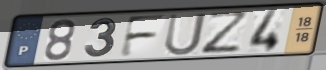3: (82, 16, 119, 60)
4: (247, 7, 282, 54)
8: (43, 18, 77, 62)
F: (117, 13, 169, 59)
U: (163, 11, 209, 57)
Z: (198, 10, 252, 57)
